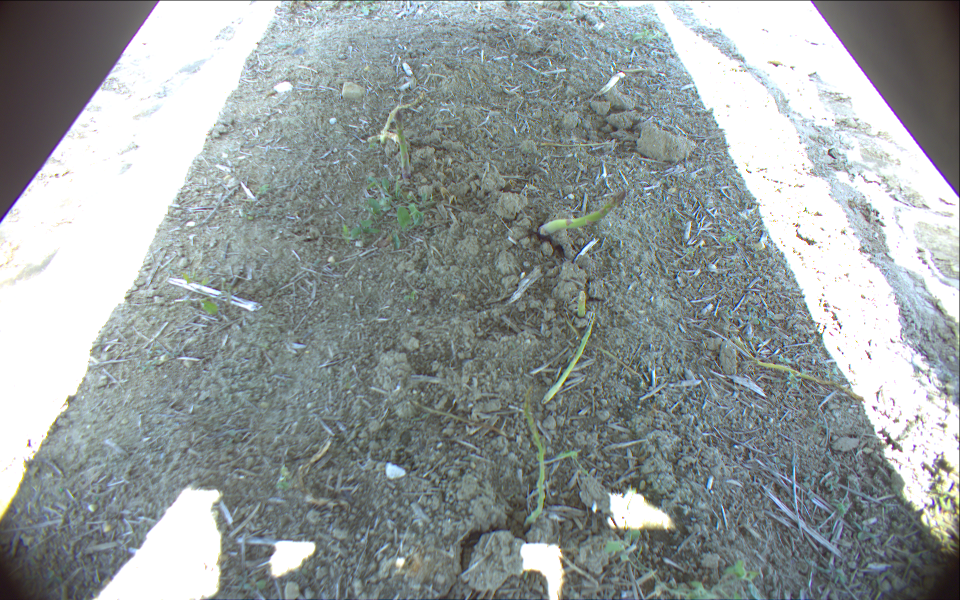aspa: (743, 336, 863, 401), (543, 308, 597, 404), (537, 188, 627, 239), (520, 386, 546, 528), (379, 90, 426, 143), (394, 109, 408, 180), (575, 289, 586, 318)
